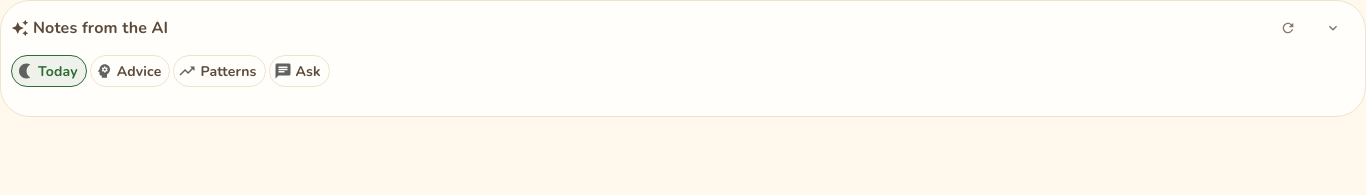
it: AIInsightsCard: nothing is pulled until you open it › picking a tab while collapsed opens it and fetches that tab
Click the button "Advice" at (130, 71), box 90,55 -> 170,87
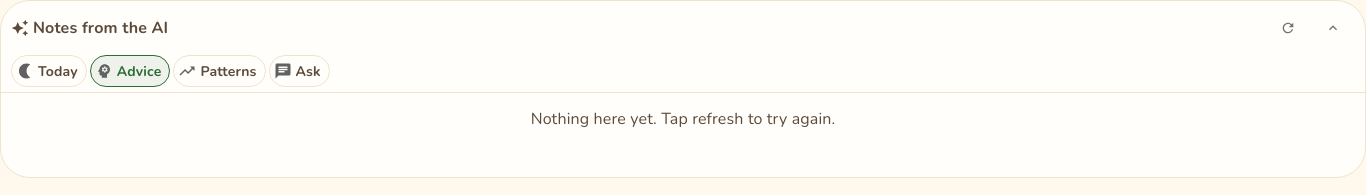
Result: the button named "Hide notes from the AI" is expanded at 1311,6 -> 1355,50
